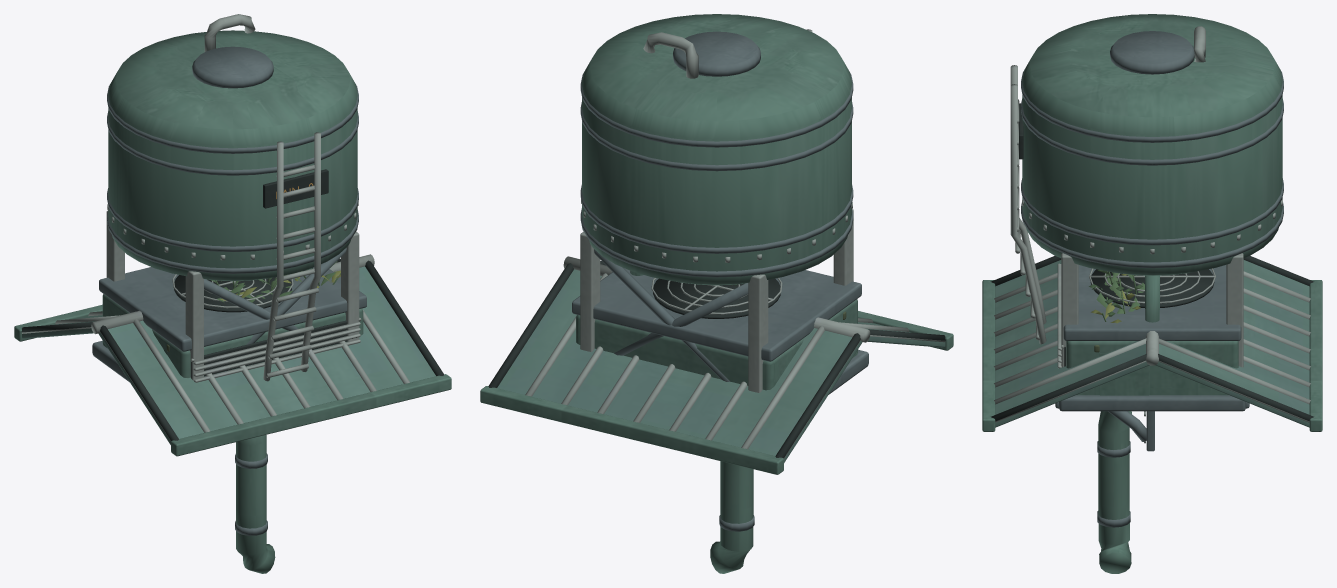
The model's file is roof-plant.glb.
3 views of the same model, side by side, from view 1: azimuth 30°, elevation 25°; view 2: azimuth 150°, elevation 25°; view 3: azimuth 270°, elevation 25° (orthographic). The views are drawn at different scales.
Parts seen in each view (by area): view 1: WaterTower :: Pressure plant corrosion atlas, Glasshouse :: Pressure plant corrosion atlas, LouvreHood :: Pressure plant corrosion atlas, Scupper :: Pressure plant corrosion atlas, Planter :: Pressure plant corrosion atlas; view 2: WaterTower :: Pressure plant corrosion atlas, Glasshouse :: Pressure plant corrosion atlas, LouvreHood :: Pressure plant corrosion atlas, Scupper :: Pressure plant corrosion atlas; view 3: WaterTower :: Pressure plant corrosion atlas, Glasshouse :: Pressure plant corrosion atlas, LouvreHood :: Pressure plant corrosion atlas, Scupper :: Pressure plant corrosion atlas, Planter :: Pressure plant corrosion atlas, PlanterBracket :: Pressure plant corrosion atlas.
Boxes of the visible parts, box(x1,y1,x2,y2) form: WaterTower :: Pressure plant corrosion atlas: box(106, 14, 359, 381); Glasshouse :: Pressure plant corrosion atlas: box(14, 254, 451, 456); LouvreHood :: Pressure plant corrosion atlas: box(92, 267, 366, 382); Scupper :: Pressure plant corrosion atlas: box(235, 435, 275, 573); Planter :: Pressure plant corrosion atlas: box(163, 261, 340, 354); WaterTower :: Pressure plant corrosion atlas: box(580, 14, 853, 392); Glasshouse :: Pressure plant corrosion atlas: box(480, 256, 953, 474); LouvreHood :: Pressure plant corrosion atlas: box(572, 268, 868, 394); Scupper :: Pressure plant corrosion atlas: box(710, 461, 754, 573); WaterTower :: Pressure plant corrosion atlas: box(1010, 14, 1283, 408); Glasshouse :: Pressure plant corrosion atlas: box(982, 256, 1322, 431); LouvreHood :: Pressure plant corrosion atlas: box(1057, 263, 1245, 411); Scupper :: Pressure plant corrosion atlas: box(1097, 411, 1131, 573); Planter :: Pressure plant corrosion atlas: box(1089, 270, 1149, 395); PlanterBracket :: Pressure plant corrosion atlas: box(1108, 411, 1154, 451).
Size of the model in its own units: 2.39 by 4.32 by 2.43.
2 materials, 1 textured.
